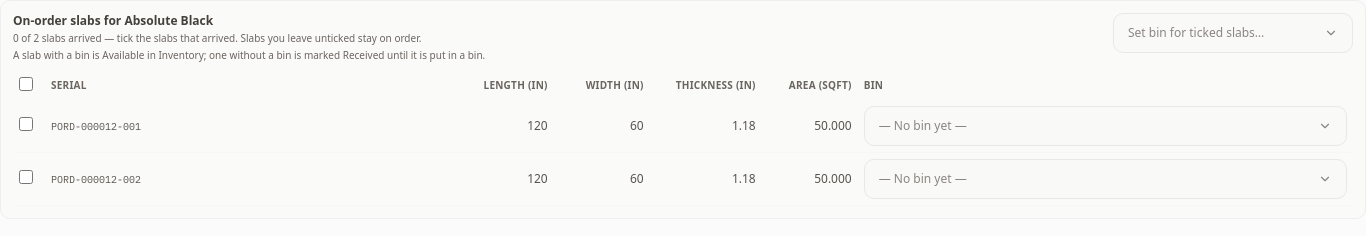
Test: OnOrderSlabChecklist › ticks and clears every slab from the header box
Click the checkbox named "Mark all slabs of Absolute Black as arrived" at (26, 84), box [19, 77, 33, 91]
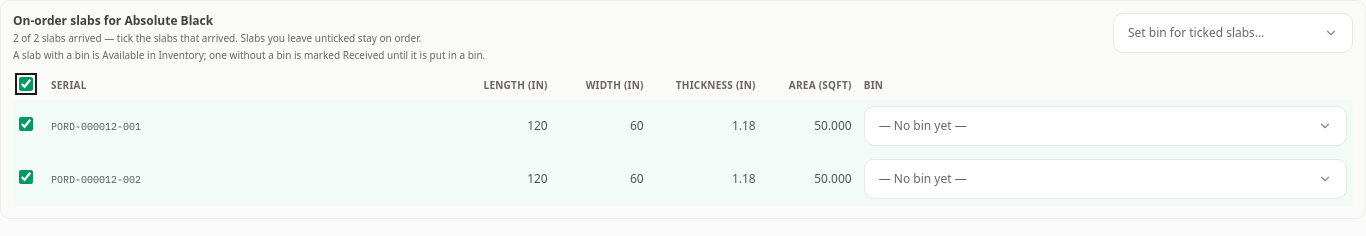
Result: the checkbox named "Mark all slabs of Absolute Black as arrived" is checked
Result: the text with test id "arrival-progress" shows "2 of 2 slabs arrived" at [13, 31, 102, 45]
Click the checkbox named "Mark all slabs of Absolute Black as arrived" at (26, 84), box [19, 77, 33, 91]
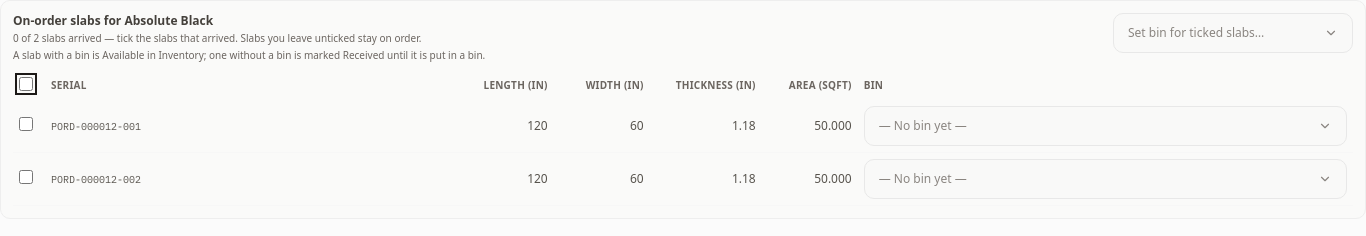
Result: the text with test id "arrival-progress" shows "0 of 2 slabs arrived" at [13, 31, 102, 45]
